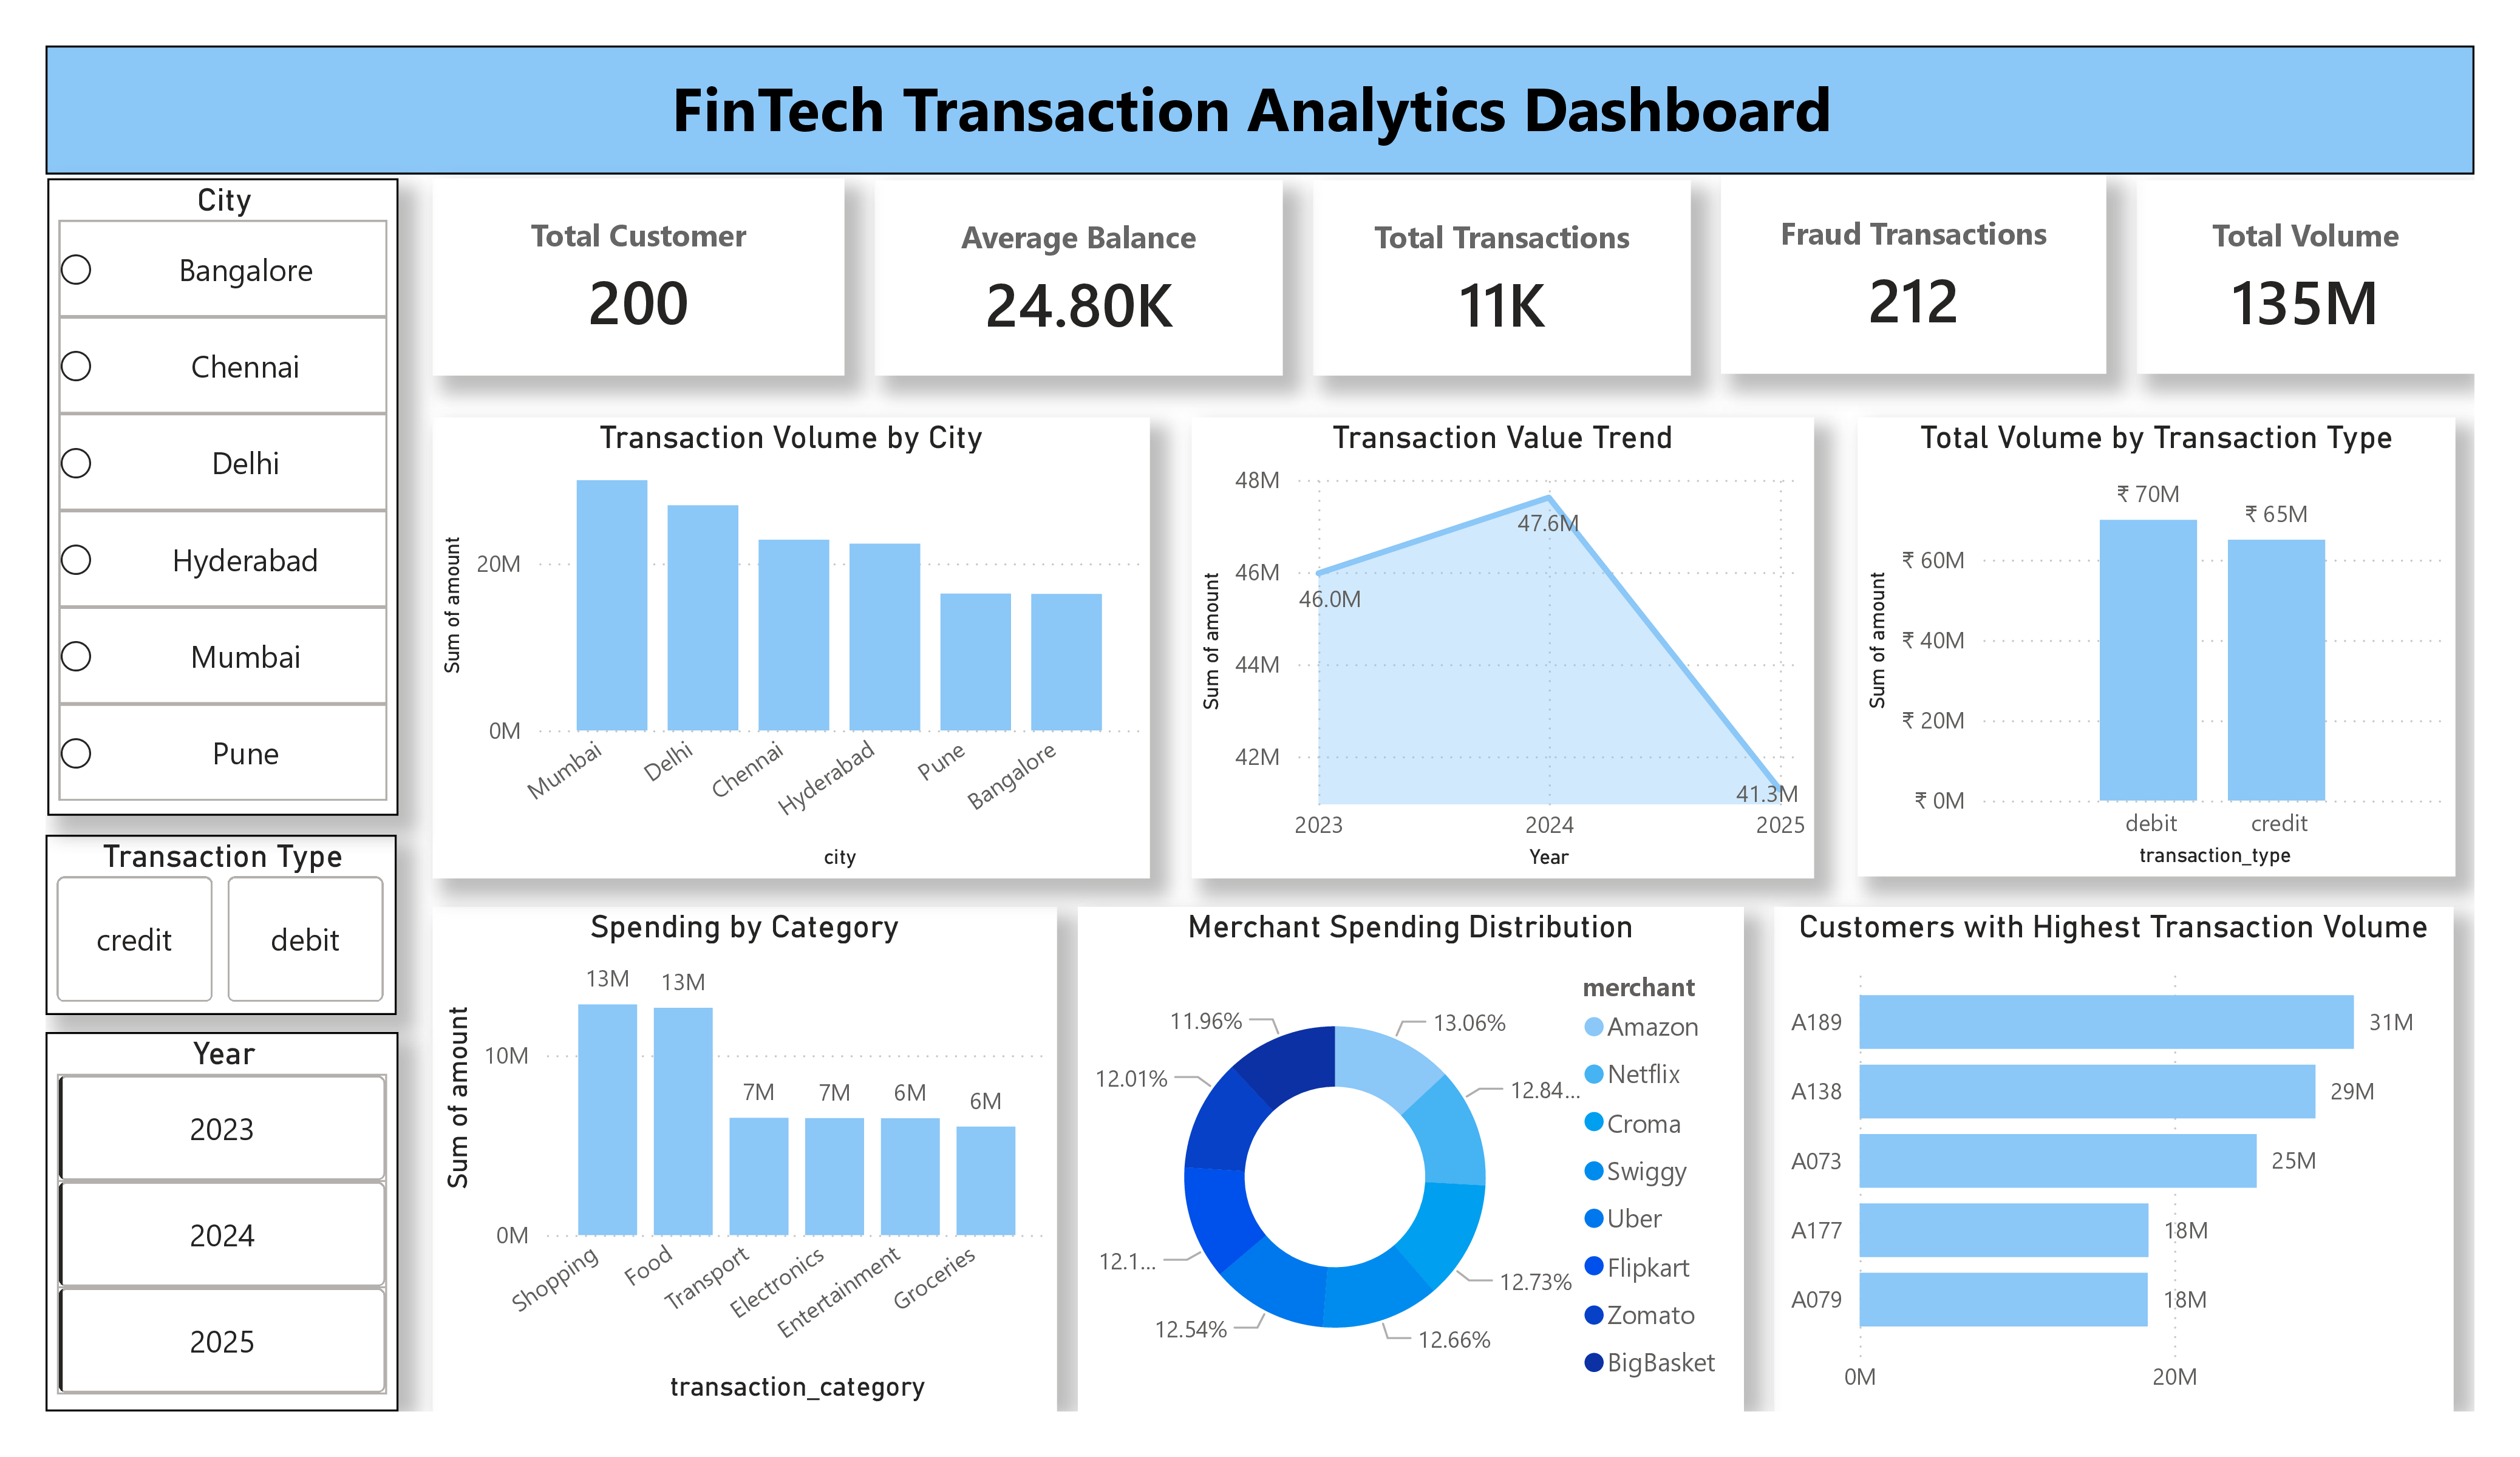

This screenshot's page, from the dashboard's own definition file:
{"tool":"powerbi","page":{"name":"Page 1","canvas":[1280,720],"ordinal":0},"visuals":[{"type":"cardVisual","fields":{"Data":["Sum(fintech_transaction_analytics transactions.amount)"]},"box":[1102.3,70.8,177.7,101.9],"z":0},{"type":"advancedSlicerVisual","title":"Transaction Type","fields":{"Values":["fintech_transaction_analytics transactions.transaction_type"]},"box":[0,416.4,185.2,94.5],"z":1000},{"type":"cardVisual","fields":{"Data":["fintech_transaction_analytics accounts.count_tranactions"]},"box":[668,70.8,198.9,103.2],"z":2000},{"type":"cardVisual","fields":{"Data":["fintech_transaction_analytics accounts.Fraud Transactions"]},"box":[882.6,68.4,203.8,104.4],"z":3000},{"type":"columnChart","title":"Total Volume by Transaction Type","fields":{"Category":["fintech_transaction_analytics transactions.transaction_type"],"Y":["Sum(fintech_transaction_analytics transactions.amount)"]},"box":[955,196.4,314.9,242.1],"z":4000},{"type":"areaChart","title":"Transaction Value Trend","fields":{"Category":["fintech_transaction_analytics transactions.transaction_date.Variation.Date Hierarchy.Year","fintech_transaction_analytics transactions.transaction_date.Variation.Date Hierarchy.Quarter","fintech_transaction_analytics transactions.transaction_date.Variation.Date Hierarchy.Month","fintech_transaction_analytics transactions.transaction_date.Variation.Date Hierarchy.Day"],"Y":["Sum(fintech_transaction_analytics transactions.amount)"]},"box":[604.3,196.2,328.1,242.4],"z":5000},{"type":"columnChart","title":"Spending by Category","fields":{"Y":["Sum(fintech_transaction_analytics transactions.amount)"],"Category":["fintech_transaction_analytics transactions.transaction_category"]},"box":[203.8,453.7,329.4,266],"z":6000},{"type":"clusteredBarChart","title":"Customers with Highest Transaction Volume","fields":{"Category":["fintech_transaction_analytics accounts.account_id"],"Y":["Sum(fintech_transaction_analytics transactions.running_balance)"]},"box":[911.1,453.7,358,266],"z":7000},{"type":"clusteredColumnChart","title":"Transaction Volume by City","fields":{"Category":["fintech_transaction_analytics customers.city"],"Y":["Sum(fintech_transaction_analytics transactions.amount)"]},"box":[203.8,196.2,377.9,242.4],"z":8000},{"type":"textbox","box":[0,0,1280.3,68.3],"z":9000},{"type":"cardVisual","fields":{"Data":["fintech_transaction_analytics accounts.Average_balance"]},"box":[437.1,70.8,215,103.2],"z":10000},{"type":"cardVisual","fields":{"Data":["fintech_transaction_analytics accounts.count customer"]},"box":[203.8,69.6,217.5,104.4],"z":11000},{"type":"donutChart","title":"Merchant Spending Distribution","fields":{"Y":["Sum(fintech_transaction_analytics transactions.amount)"],"Category":["fintech_transaction_analytics transactions.merchant","fintech_transaction_analytics transactions.transaction_status","fintech_transaction_analytics transactions.transaction_type"]},"box":[544.4,453.7,350.5,266],"z":12000},{"type":"listSlicer","title":"City","fields":{"Values":["fintech_transaction_analytics customers.city"]},"box":[1.2,69.7,184.6,336.3],"z":13000},{"type":"advancedSlicerVisual","title":"Year","fields":{"Values":["fintech_transaction_analytics transactions.transaction_date (bins)"]},"box":[0,519.6,186.4,200.1],"z":14000}]}

Visuals, with their boxes in screenshot pixels (x1, y1, x2, y2):
cardVisual - Sum(fintech_transaction_analytics transactions.amount): bbox=(2103, 172, 2436, 362)
"Transaction Type" advancedSlicerVisual: bbox=(39, 819, 386, 996)
cardVisual - fintech_transaction_analytics accounts.count_tranactions: bbox=(1290, 172, 1663, 365)
cardVisual - fintech_transaction_analytics accounts.Fraud Transactions: bbox=(1692, 168, 2074, 363)
"Total Volume by Transaction Type" columnChart: bbox=(1828, 407, 2417, 860)
"Transaction Value Trend" areaChart: bbox=(1171, 407, 1785, 860)
"Spending by Category" columnChart: bbox=(421, 889, 1038, 1387)
"Customers with Highest Transaction Volume" clusteredBarChart: bbox=(1746, 889, 2416, 1387)
"Transaction Volume by City" clusteredColumnChart: bbox=(421, 407, 1129, 860)
textbox: bbox=(39, 39, 2437, 167)
cardVisual - fintech_transaction_analytics accounts.Average_balance: bbox=(858, 172, 1261, 365)
cardVisual - fintech_transaction_analytics accounts.count customer: bbox=(421, 169, 828, 365)
"Merchant Spending Distribution" donutChart: bbox=(1059, 889, 1715, 1387)
"City" listSlicer: bbox=(42, 170, 387, 800)
"Year" advancedSlicerVisual: bbox=(39, 1012, 389, 1387)
